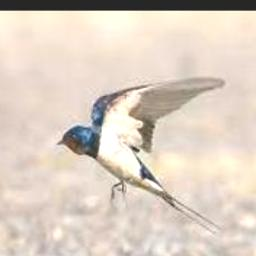Swallow: (57, 76, 225, 233)
